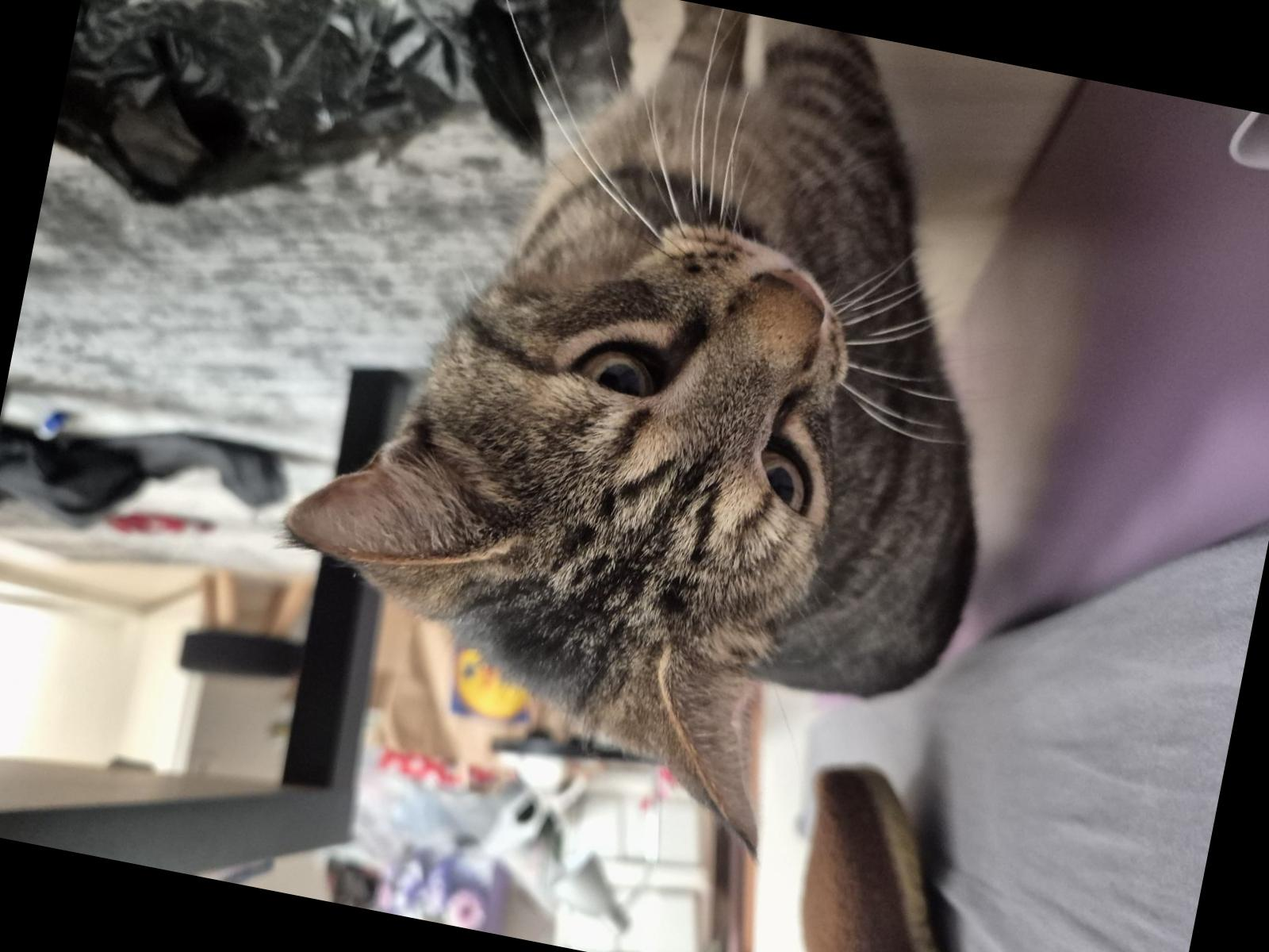macka: (239, 0, 1072, 893)
